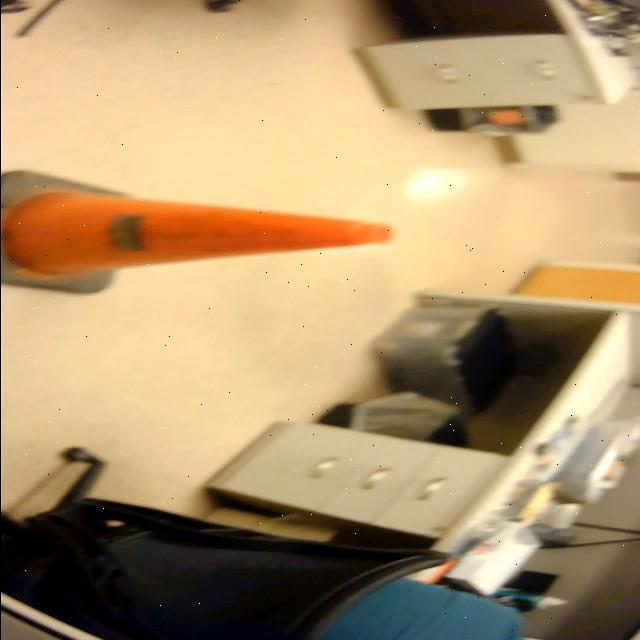traffic cone: (1, 165, 404, 301)
